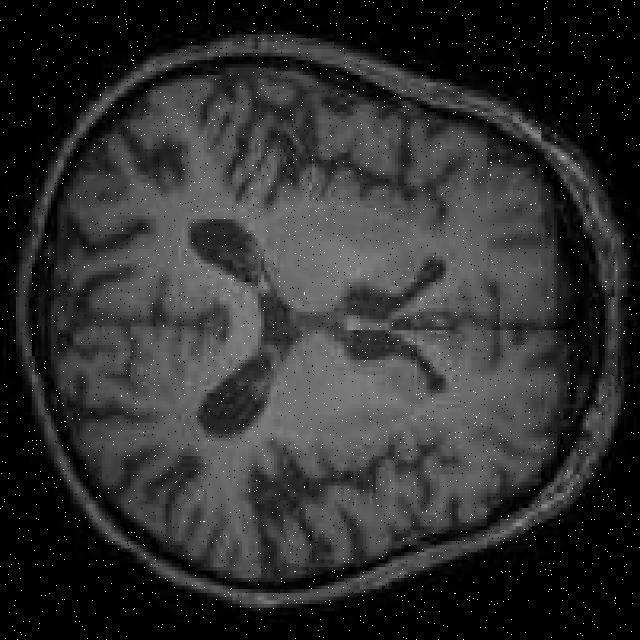No_Tumor: (18, 35, 624, 604)
